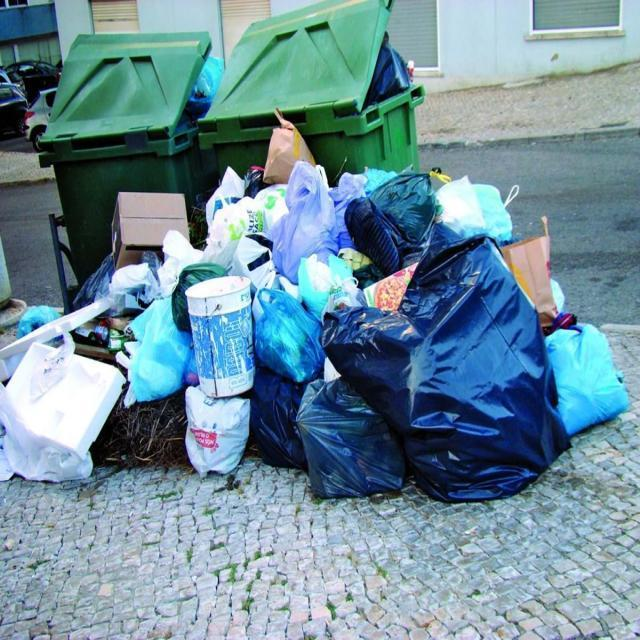Trashbag: (386, 243, 560, 501), (304, 387, 399, 508), (321, 298, 407, 394), (372, 165, 448, 249), (247, 382, 315, 468)
